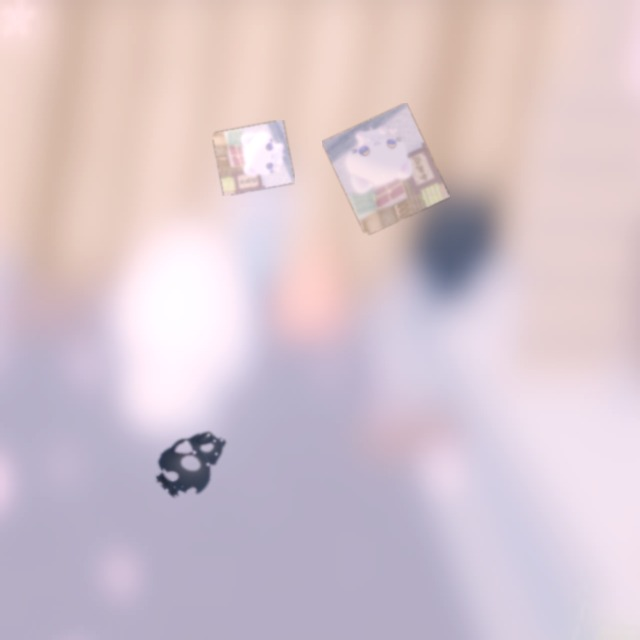urso_branco: (322, 103, 450, 236), (212, 120, 295, 196)
urso_preto: (143, 409, 246, 513)
